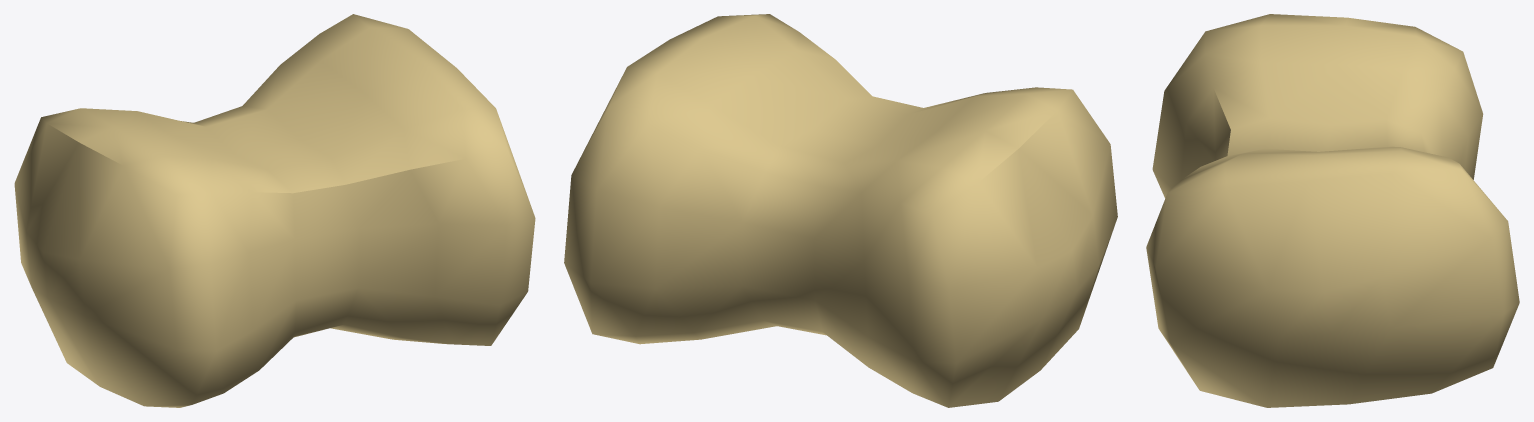
Rendered from knucklebone_talus_mobile.glb.
3 views of the same model, side by side, from view 1: azimuth 30°, elevation 25°; view 2: azimuth 150°, elevation 25°; view 3: azimuth 270°, elevation 25° (orthographic). The views are drawn at different scales.
Parts seen in each view (by area): view 1: Knucklebone; view 2: Knucklebone; view 3: Knucklebone.
Part boxes in pixels (x1,y1,x2,y2): Knucklebone: (14,14,535,407); Knucklebone: (564,14,1117,407); Knucklebone: (1146,14,1519,407).
Size of the model in its own units: 0.0967 by 0.0546 by 0.0739.
